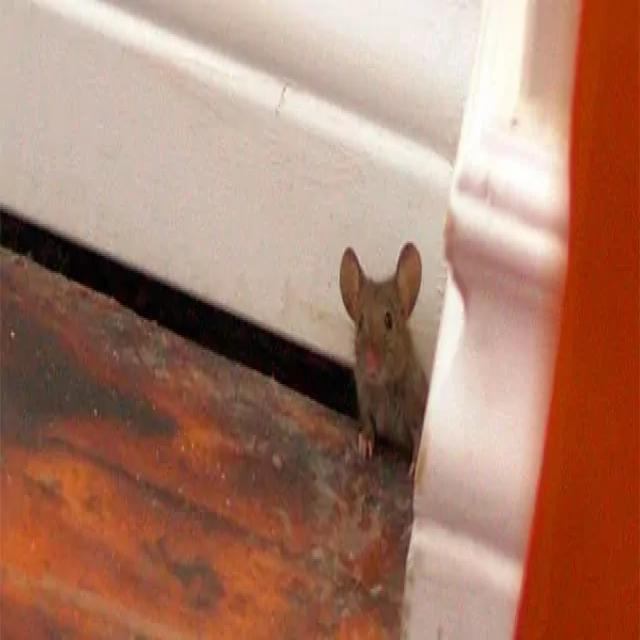rat: (328, 223, 453, 483)
